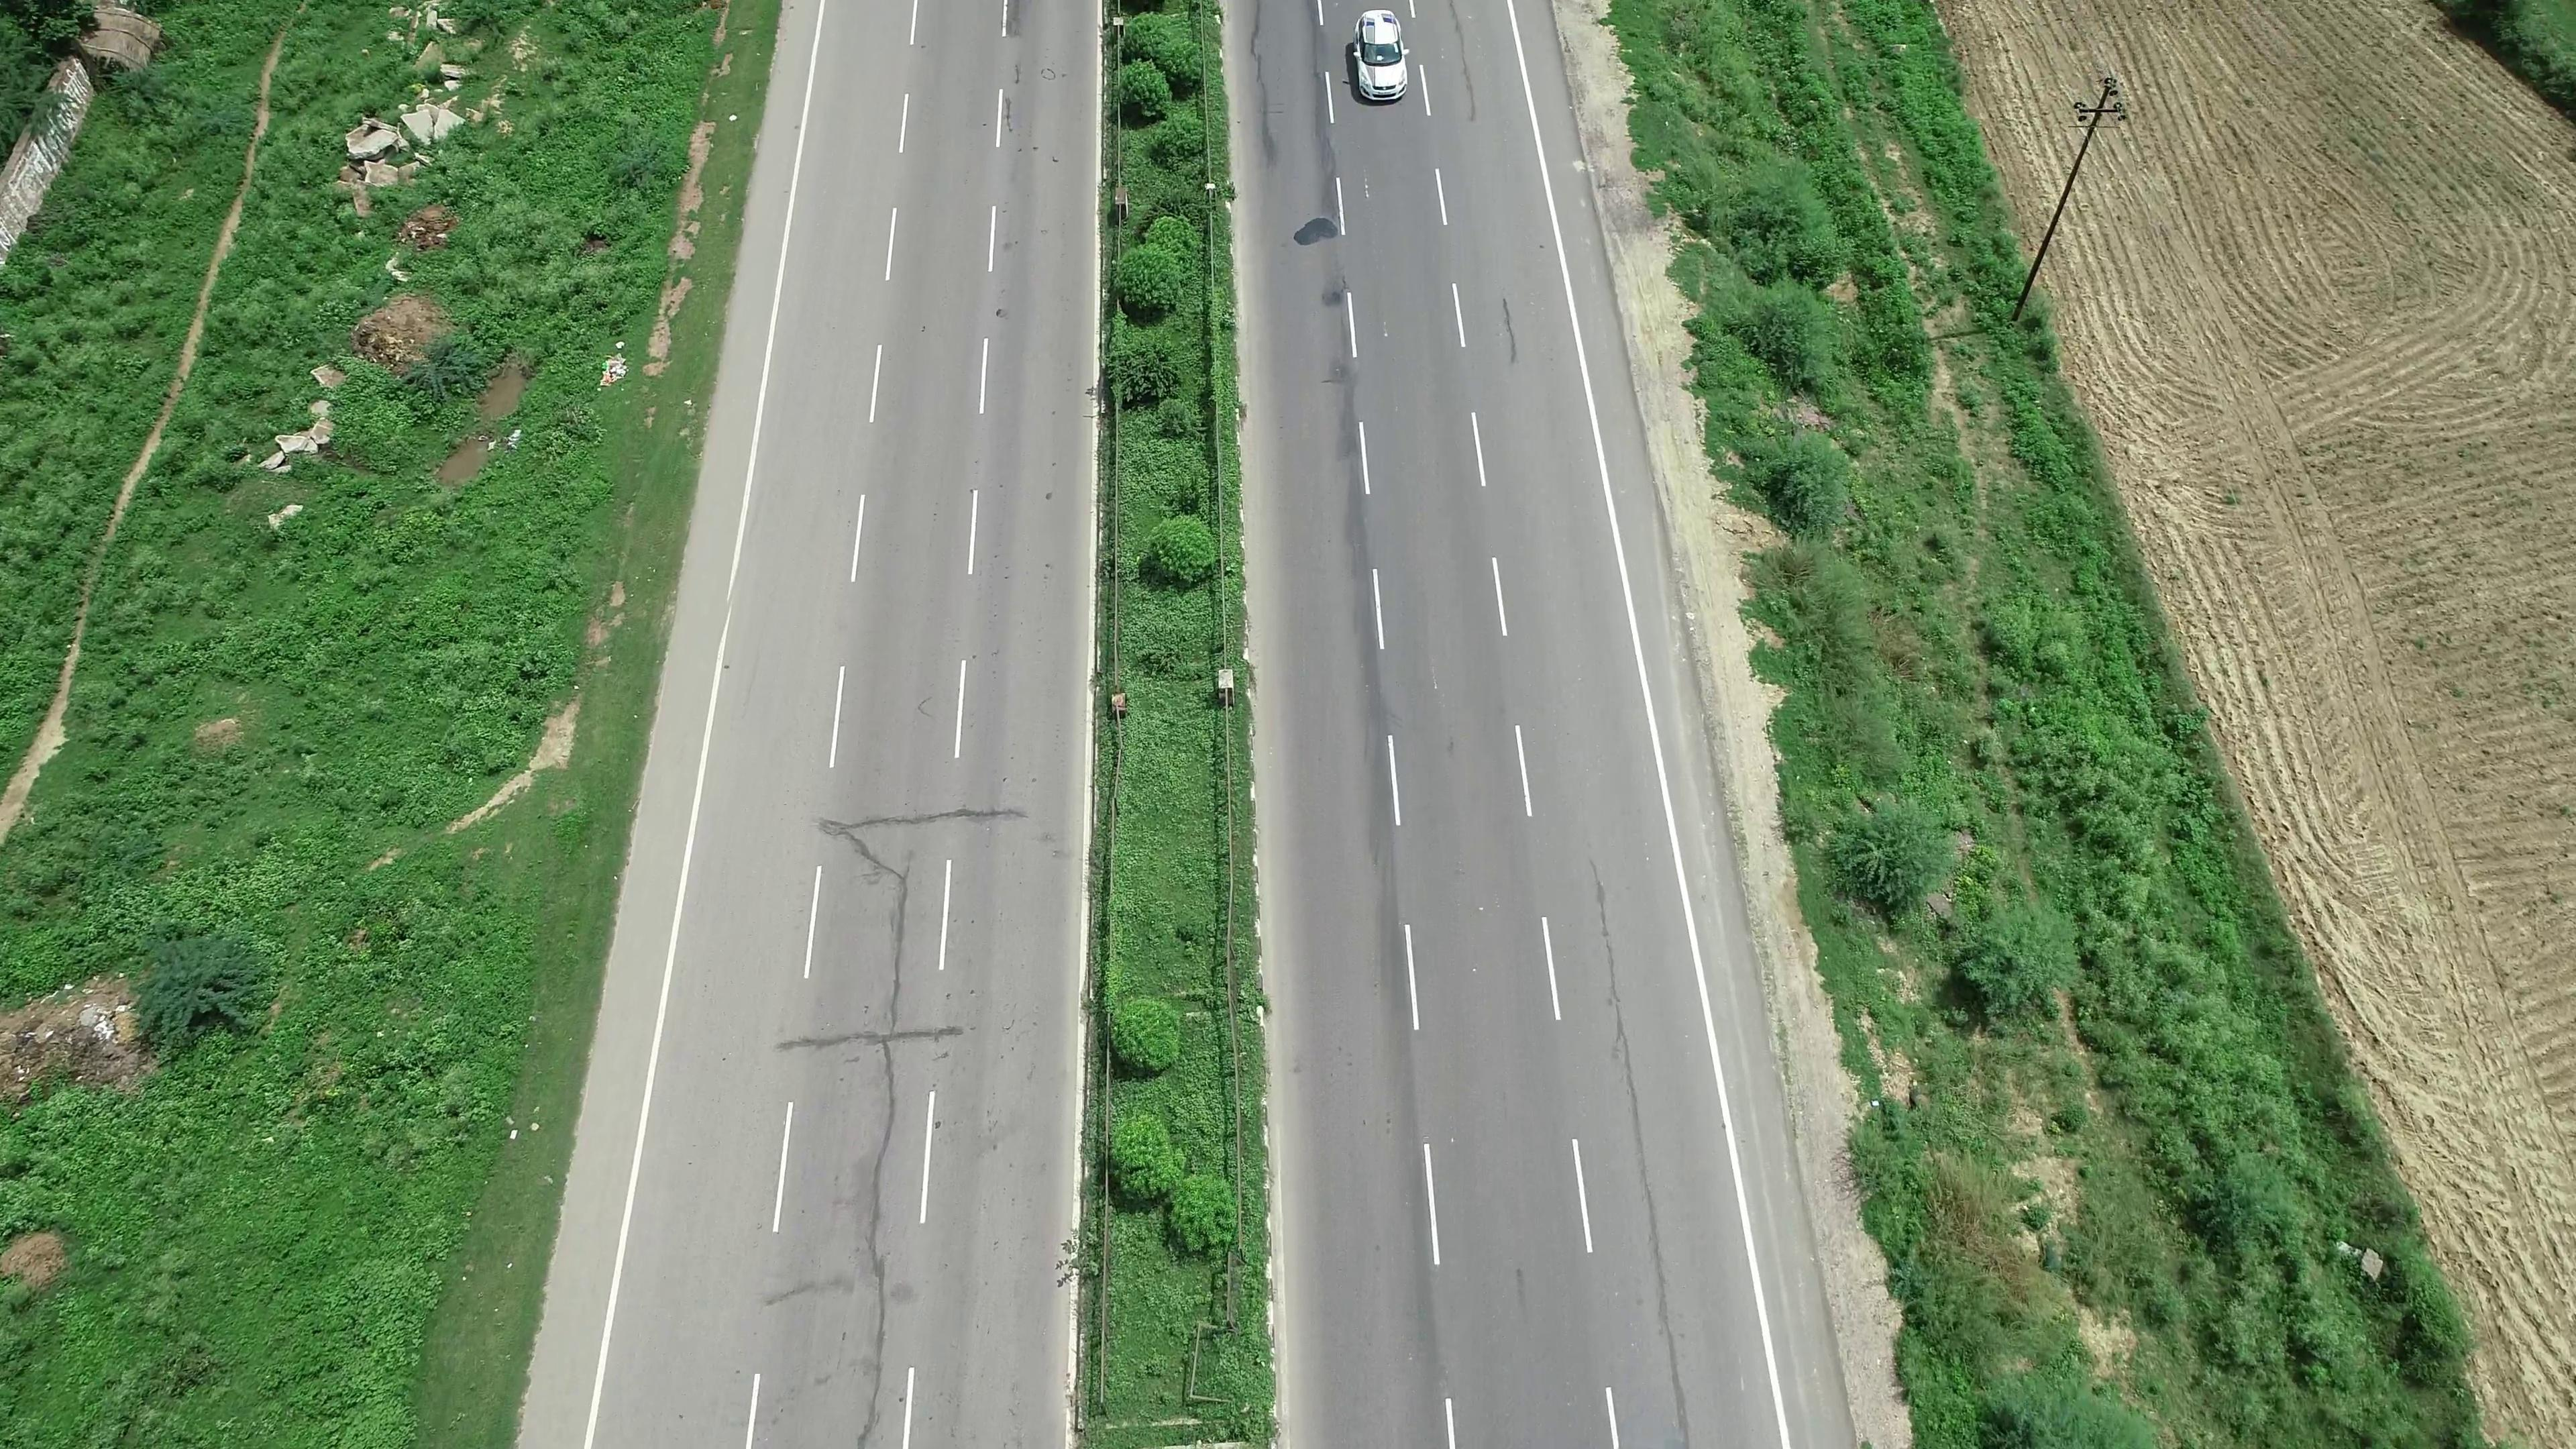Longitudinal_cracks: (1591, 862, 1702, 1440), (819, 876, 925, 1417)
